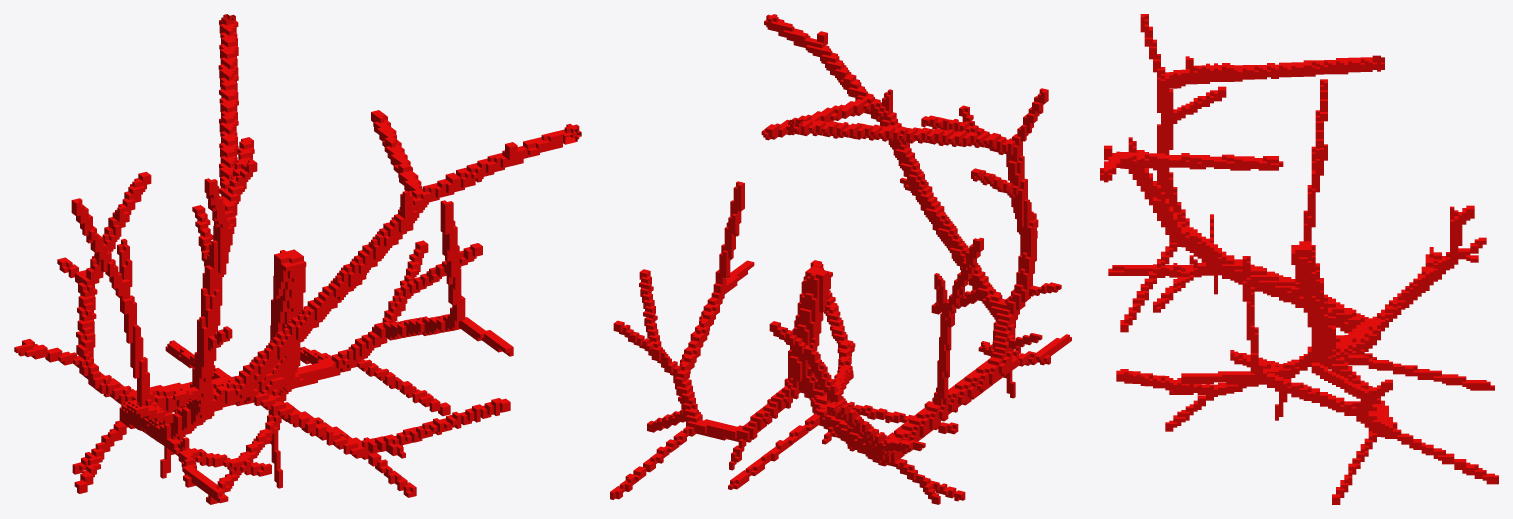
The model's file is ref.obj.
The picture shows the model from 3 angles, left to right: view 1: azimuth 30°, elevation 25°; view 2: azimuth 150°, elevation 25°; view 3: azimuth 270°, elevation 25°; orthographic projection. The views are drawn at different scales.
Visible parts, largest first — view 1: anObject; view 2: anObject; view 3: anObject.
Boxes of the visible parts, x1,y1,x2,y2 form: anObject: [14, 14, 581, 504]; anObject: [610, 14, 1071, 504]; anObject: [1100, 14, 1498, 504].
Size of the model in its own units: 99 by 99 by 98.
